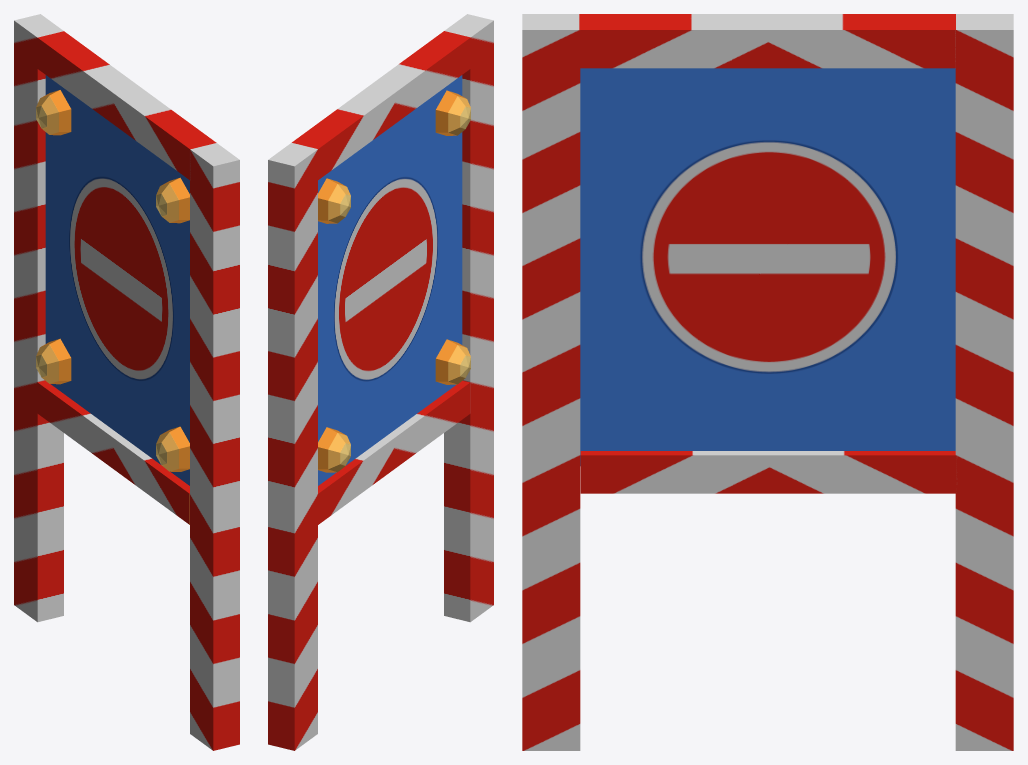
File: Verkeersbord.fbx
3 views of the same model, side by side, from view 1: azimuth 30°, elevation 25°; view 2: azimuth 150°, elevation 25°; view 3: azimuth 270°, elevation 25° (orthographic). The views are drawn at different scales.
Parts seen in each view (by area): view 1: Verkeersbord; view 2: Verkeersbord; view 3: Verkeersbord.
Part boxes in pixels (x1=…): Verkeersbord: x1=14, y1=14, x2=239, y2=750; Verkeersbord: x1=268, y1=14, x2=493, y2=750; Verkeersbord: x1=522, y1=14, x2=1013, y2=750.
Size of the model in its own units: 37.34 by 505 by 312.
